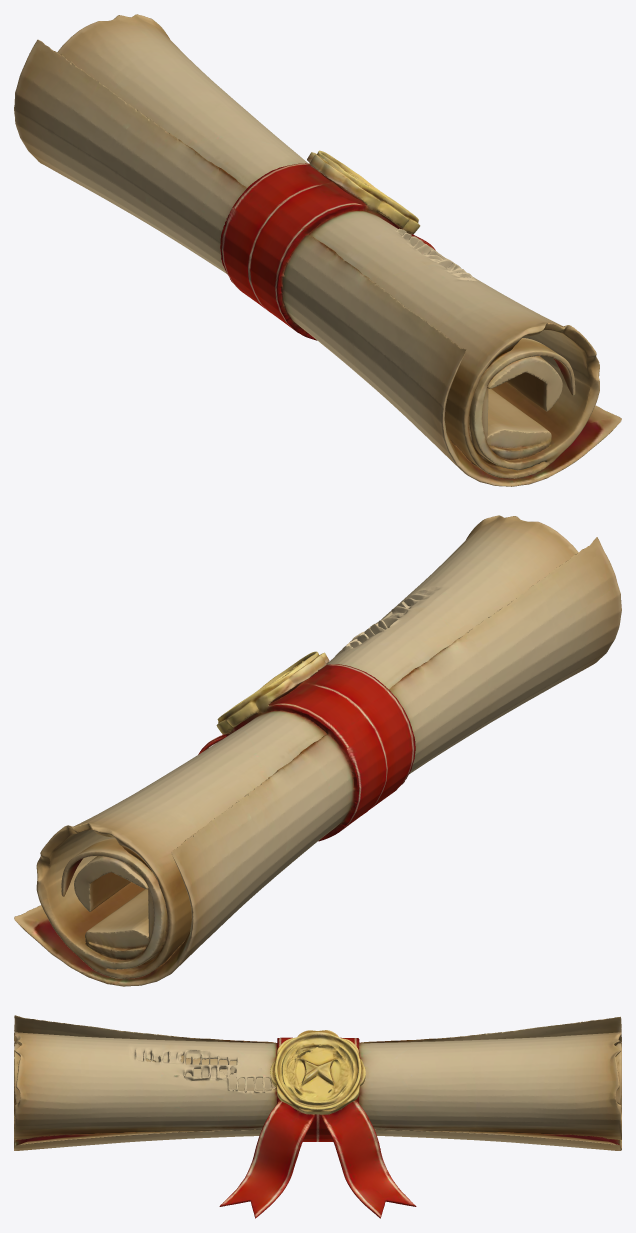
File: diploma+scroll+3d+model+doerlorenz2619001a.fbx
3 views of the same model, one above another, from view 1: azimuth 30°, elevation 25°; view 2: azimuth 150°, elevation 25°; view 3: azimuth 270°, elevation 25° (orthographic). The views are drawn at different scales.
Visible parts, largest first — view 1: tripo_node_4bd5fe5d; view 2: tripo_node_4bd5fe5d; view 3: tripo_node_4bd5fe5d.
Part boxes in pixels (box(x1,y1,x2,y2)): tripo_node_4bd5fe5d: box(14, 14, 621, 486); tripo_node_4bd5fe5d: box(14, 515, 621, 986); tripo_node_4bd5fe5d: box(14, 1015, 621, 1218).
Size of the model in its own units: 0.3494 by 0.2406 by 1.
1 material, 1 textured.
